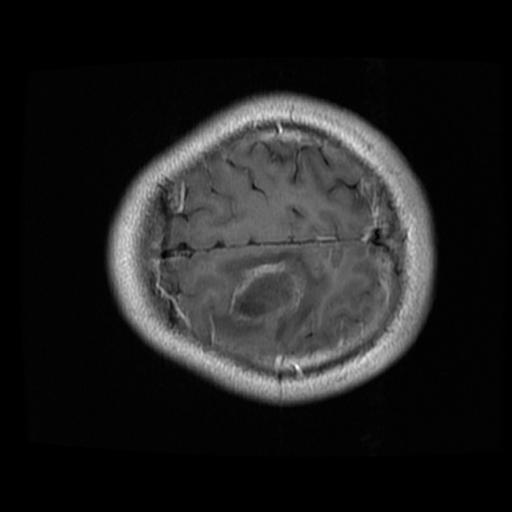glioma: (212, 250, 330, 341)
